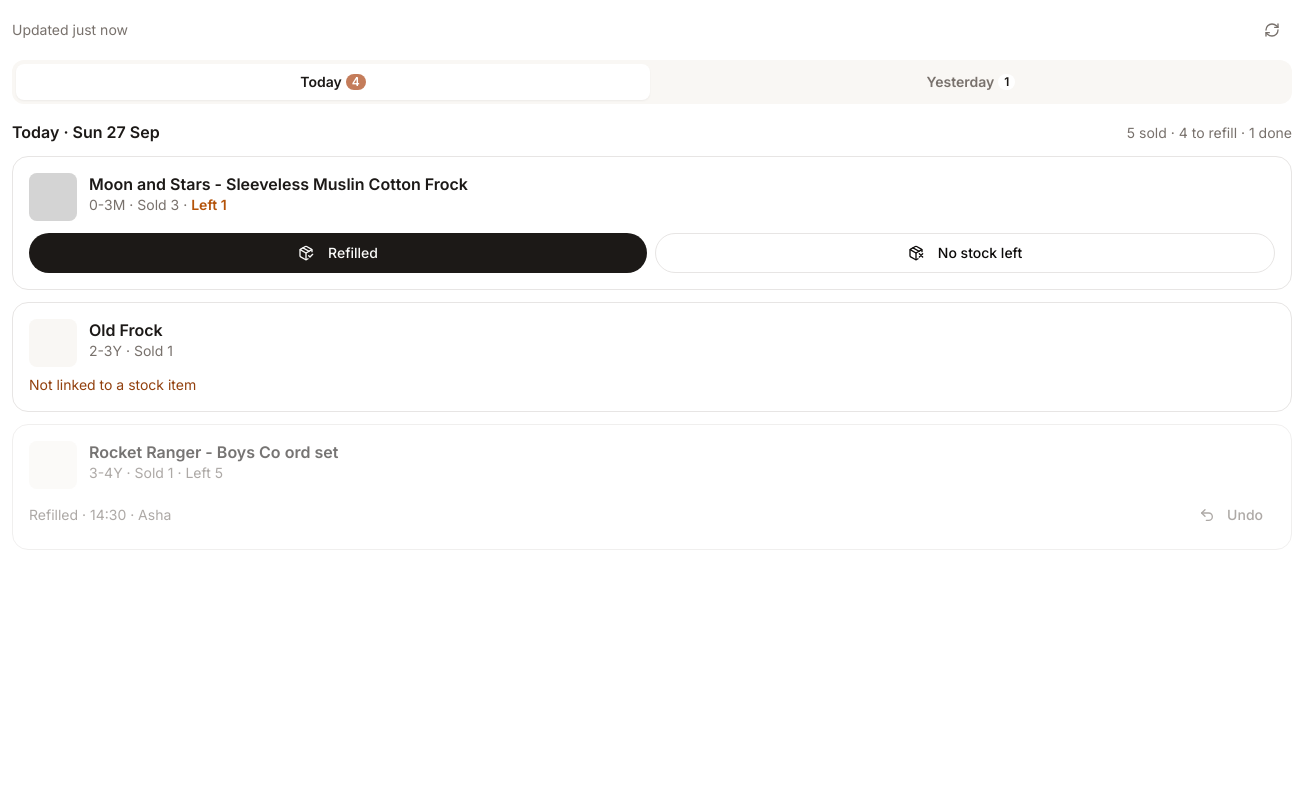
stall refills list › a failed background refresh keeps the list and shows a banner
Check: the list item with test id "refill-line-frock-moon-0-3m" is shown, box [12,156,1292,290]
Click the button named "Refresh" at (1272, 30), box [1252,12,1292,48]
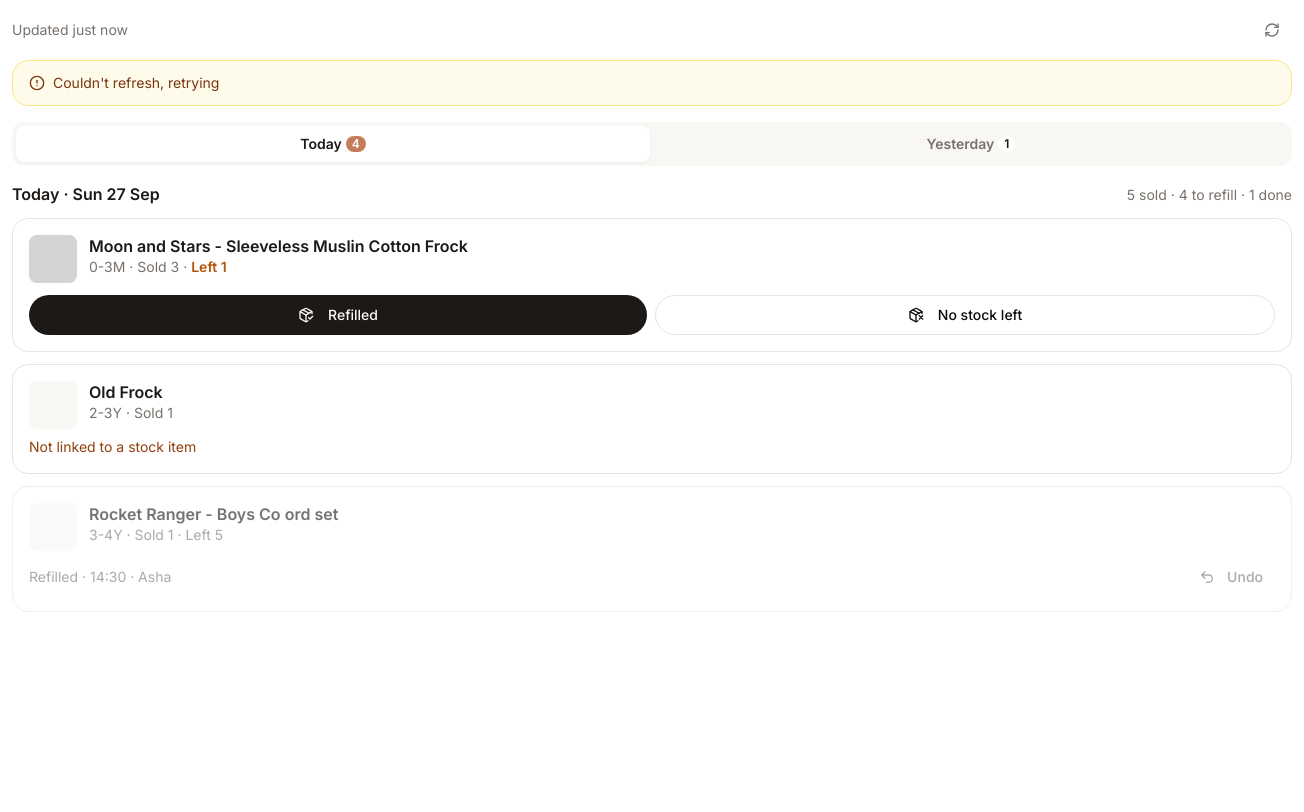
Check: the list item with test id "refill-line-frock-moon-0-3m" is shown, box [12,218,1292,352]
Check: the message reads "Couldn't refresh, retrying", box [53,74,220,91]
